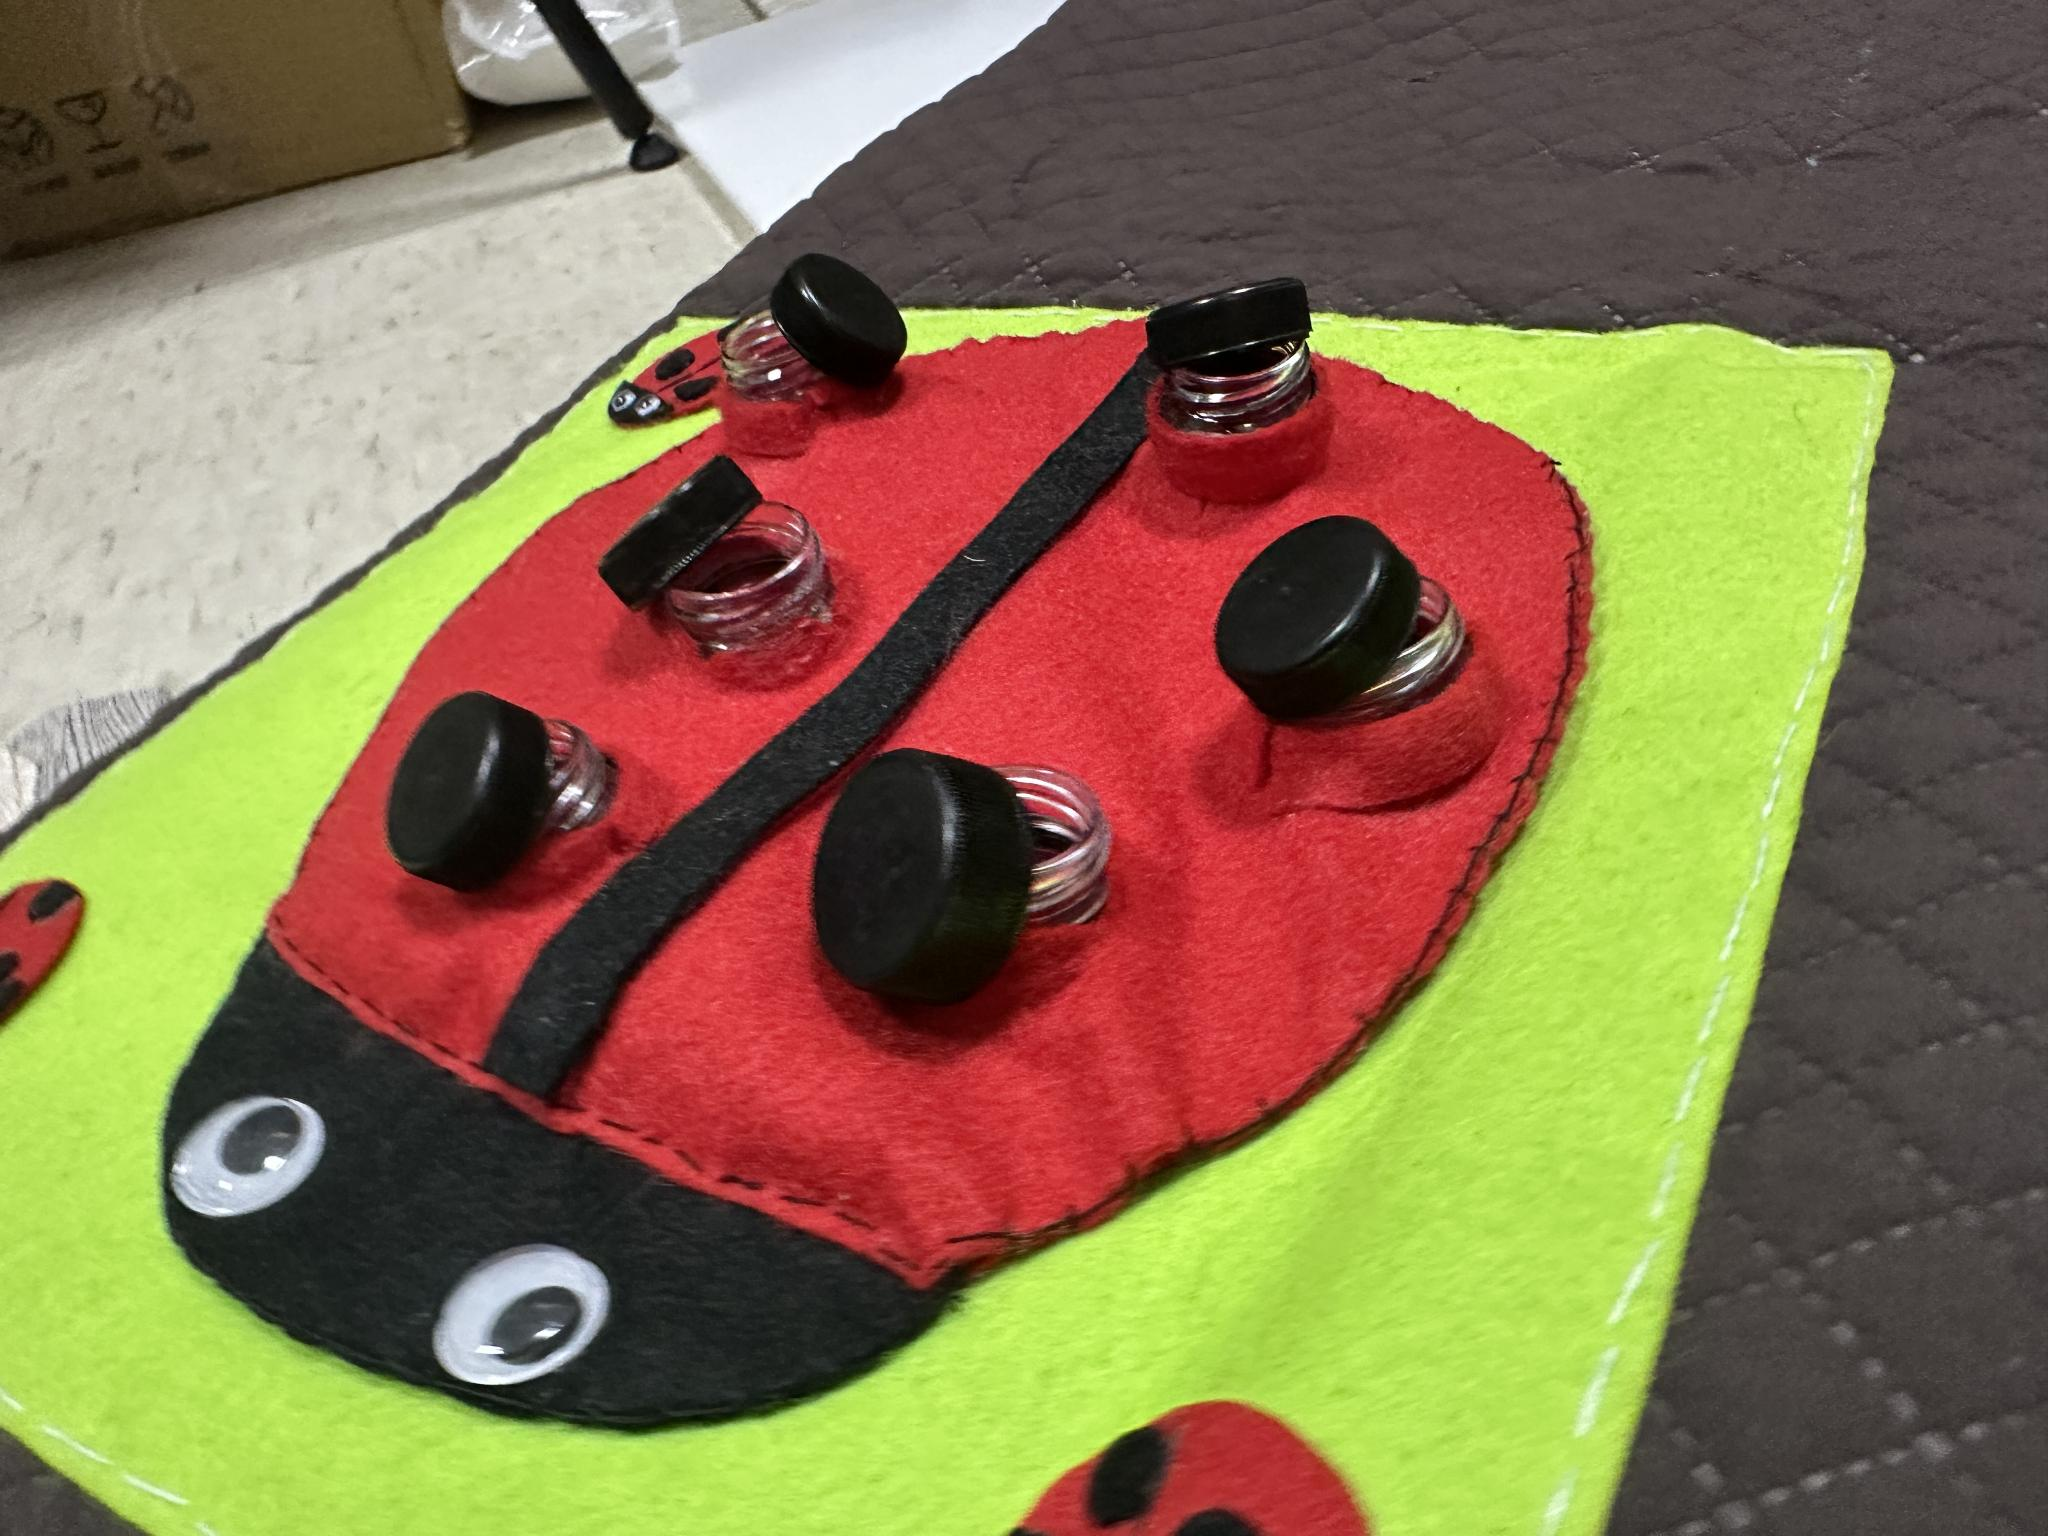cap_ng: (798, 728, 1130, 1065), (1211, 508, 1513, 821), (373, 679, 647, 920), (590, 447, 866, 663), (1108, 266, 1337, 510), (716, 242, 926, 463)
